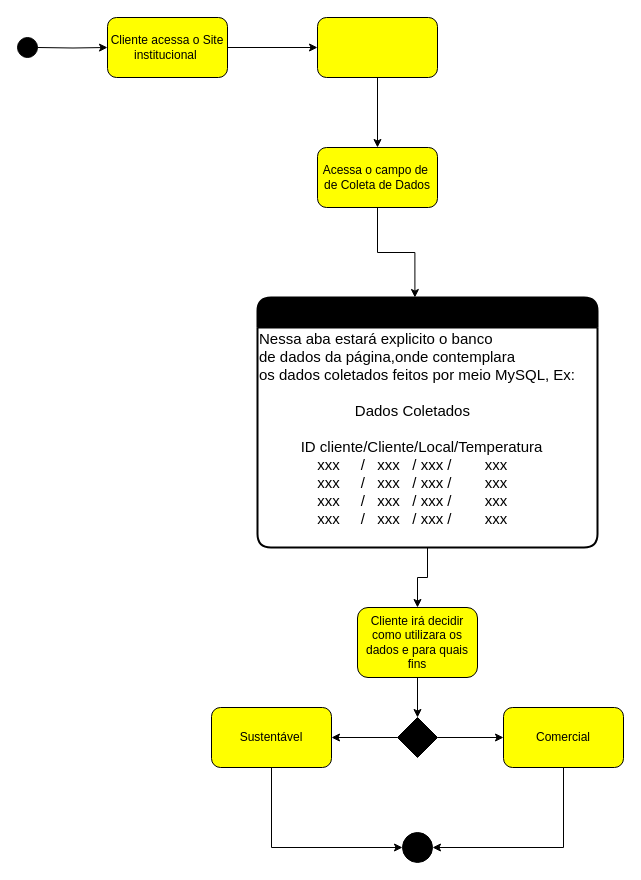
The diagram is 641 pixels wide and 880 high, and some of its shapes have lost their labels. Here are the shapes that lost their labels. From the top down, the box of each, then its label:
(316, 16, 438, 78): Se cadastra,definindo assim um Login e senha
(256, 296, 598, 548): BD BeeProject
